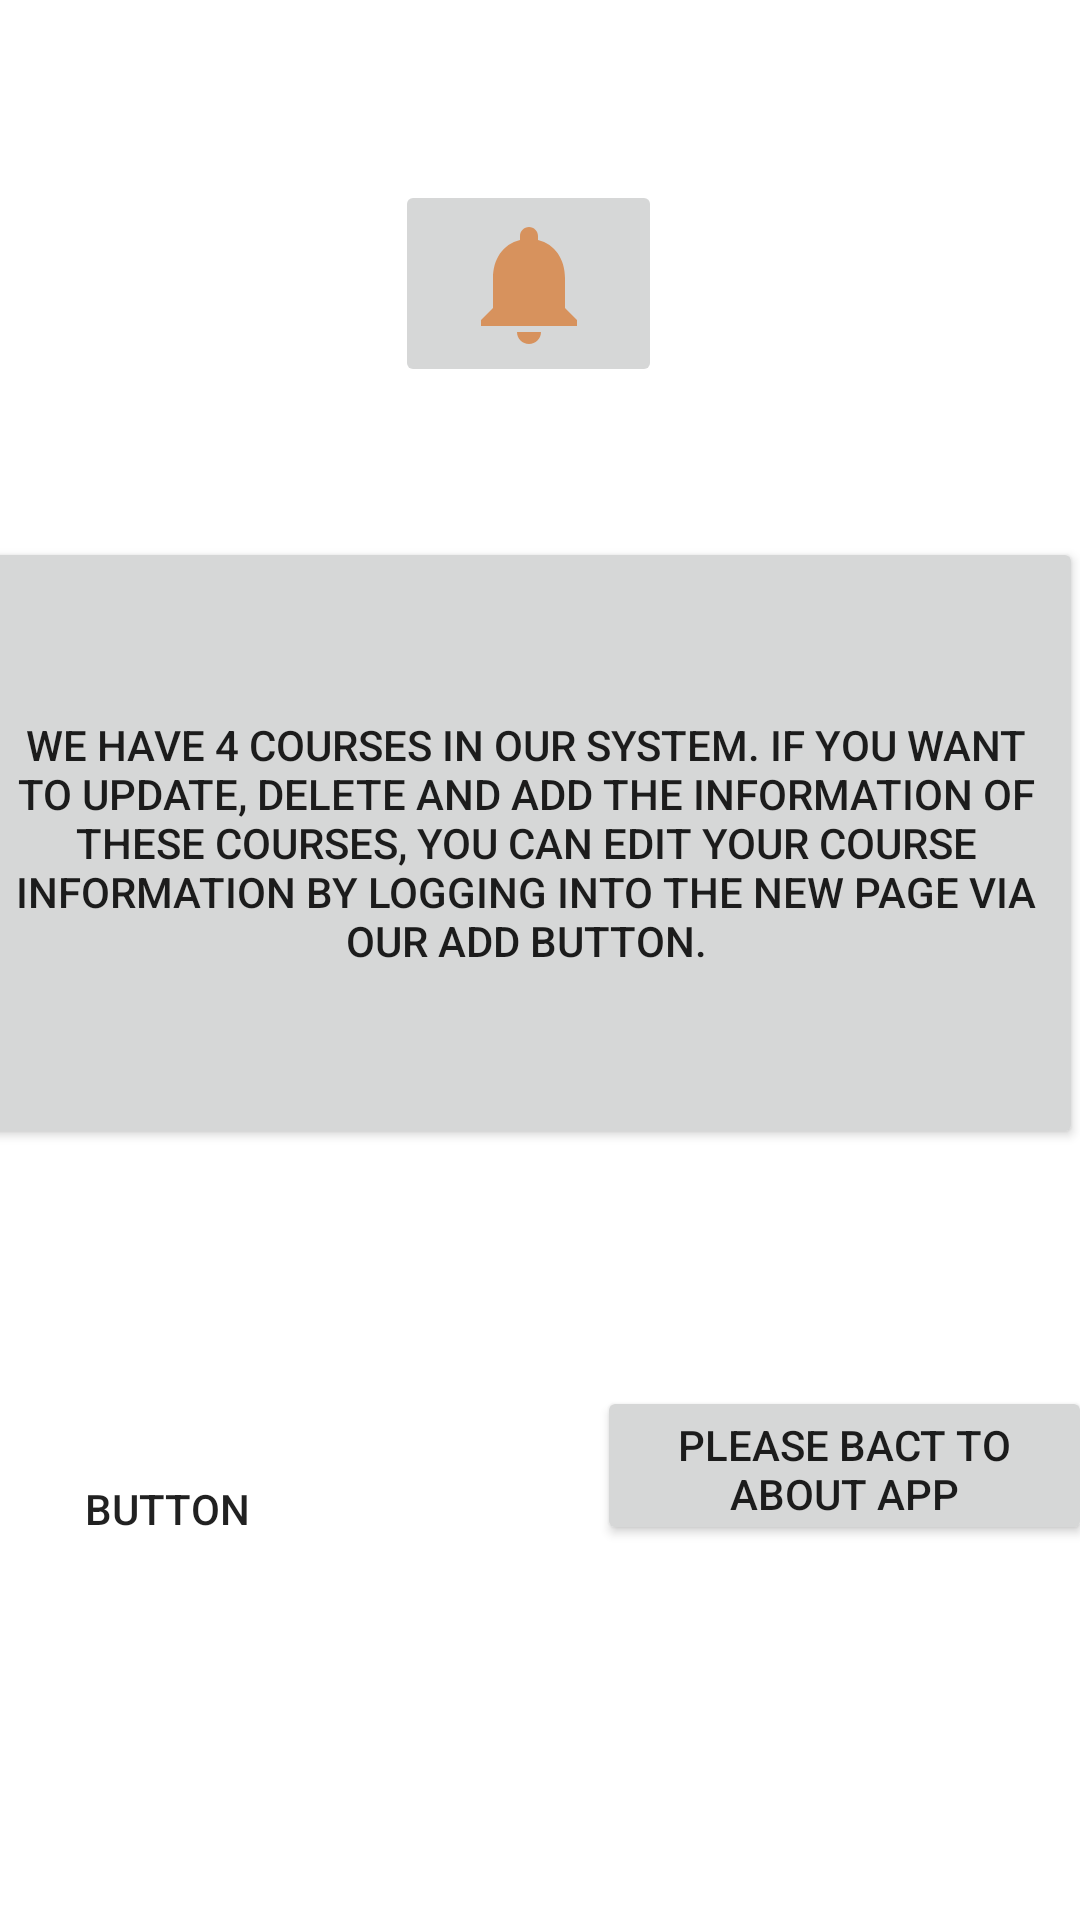

Where icons sit on this 1080 x 1920 app screen, as (x1, y1, x2, y2):
notifications: (407, 198, 650, 369)
